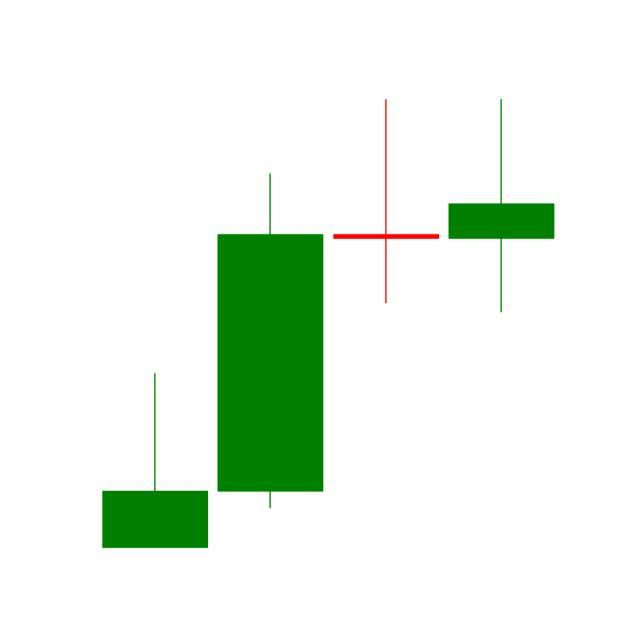Gravestone Doji: (329, 98, 445, 308)
